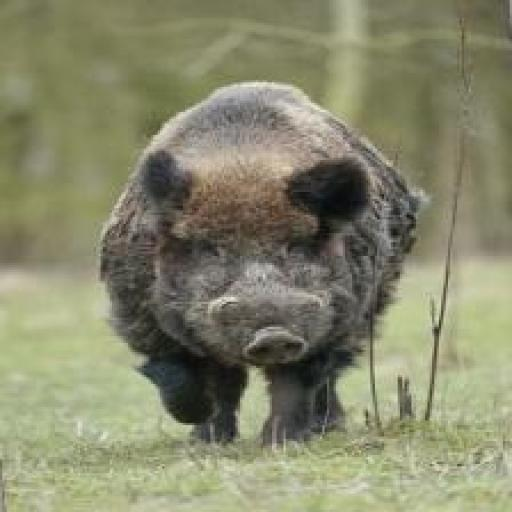Pig: (98, 82, 417, 446)
